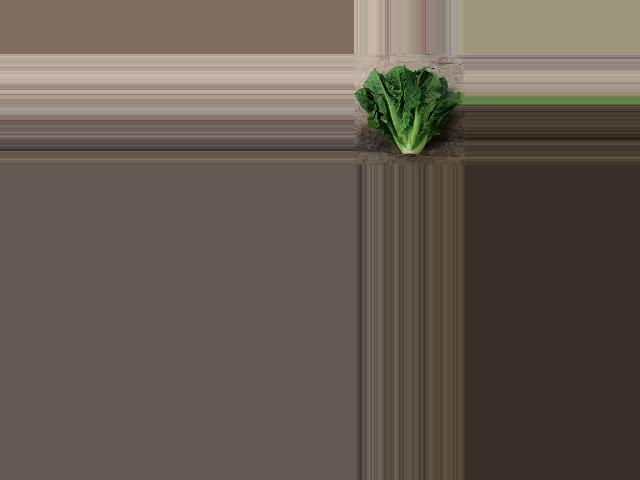lettuce: (358, 63, 461, 161)
